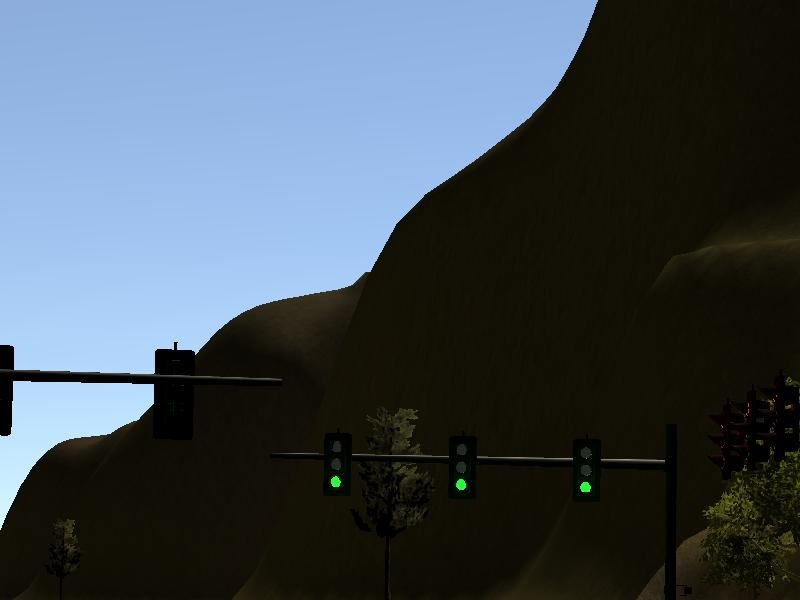green: (322, 432, 353, 498), (448, 436, 476, 499), (573, 440, 600, 502)
